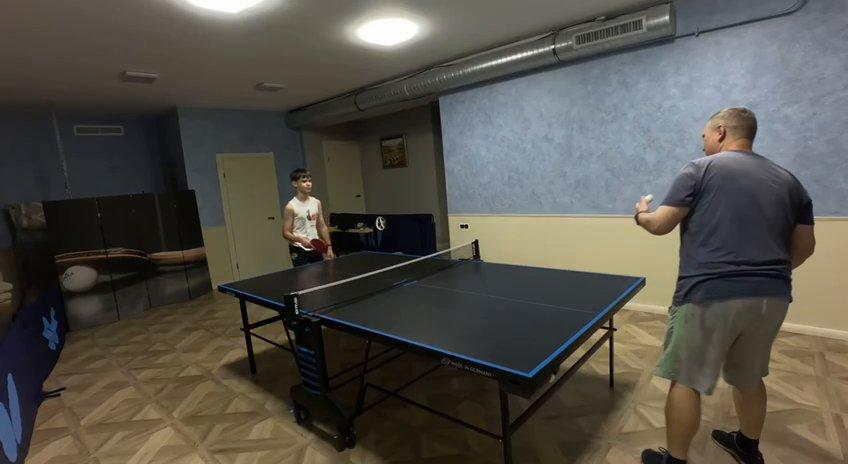Ball: (648, 193, 653, 204)
Net: (283, 240, 481, 321)
Player1: (283, 168, 338, 269)
Player2: (634, 107, 813, 463)
Table: (222, 253, 640, 377)
